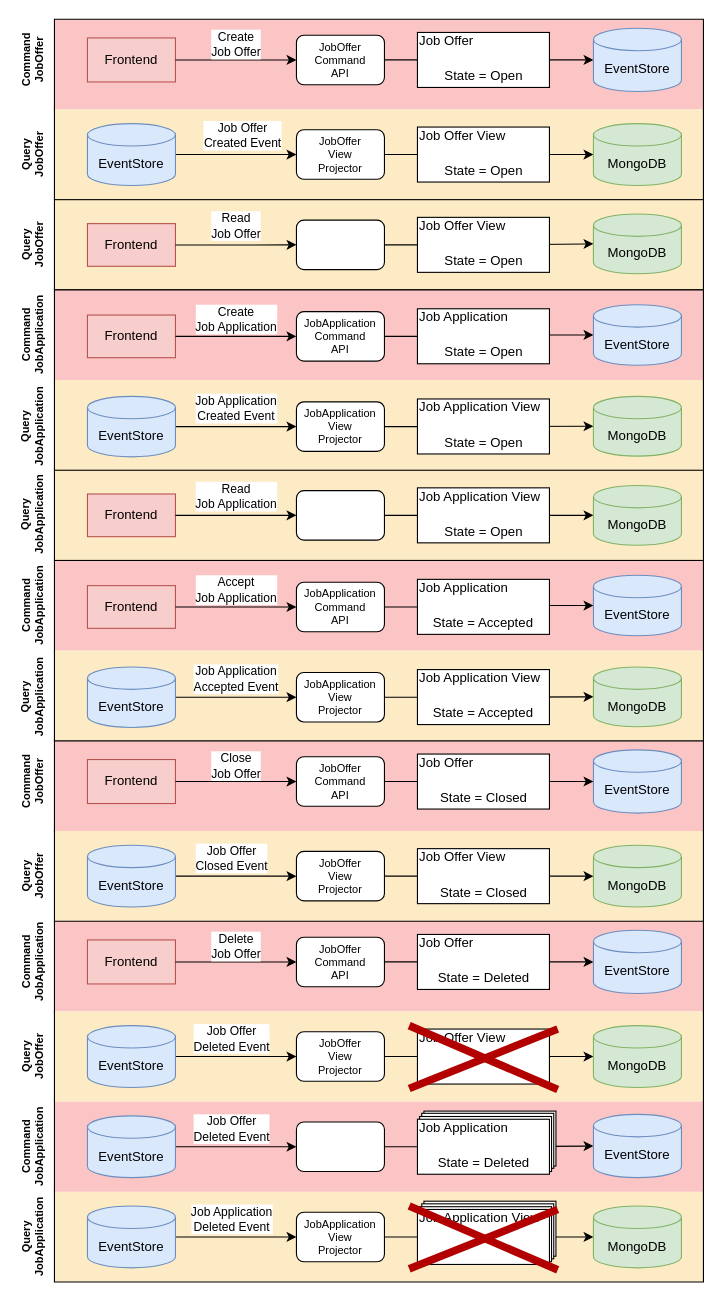
Image size: 723x1301. Some labels were removed from this diagram. Each missing label, with the centre of its shape:
JobApplication Internal Event Listener: the point at 339,1146
JobApplication Query API: the point at 339,515
JobOffer Query API: the point at 339,244
